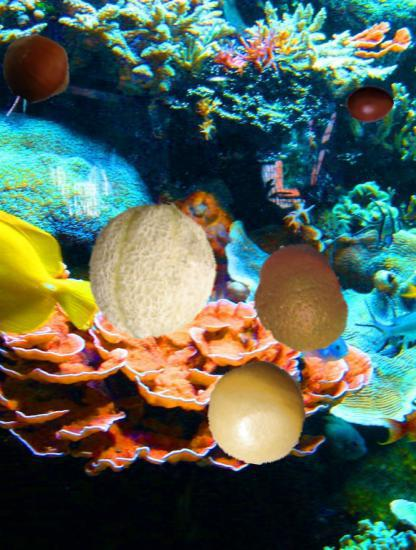Cantaloupe: (82, 200, 222, 340)
Grapefruit: (206, 361, 309, 464)
Mandarine: (243, 243, 356, 356)
Nut: (0, 32, 74, 106)
Tamarillo: (341, 78, 394, 131)
